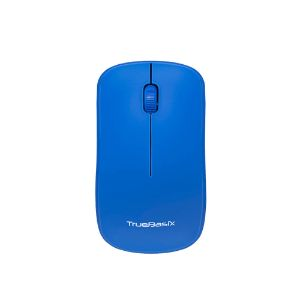mouse: (88, 59, 214, 259)
